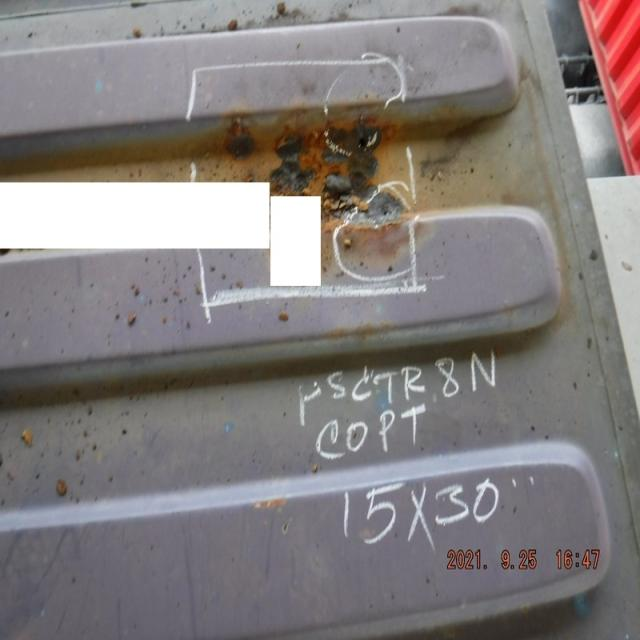rust: (322, 125, 406, 235), (270, 127, 321, 195), (224, 133, 259, 165)
